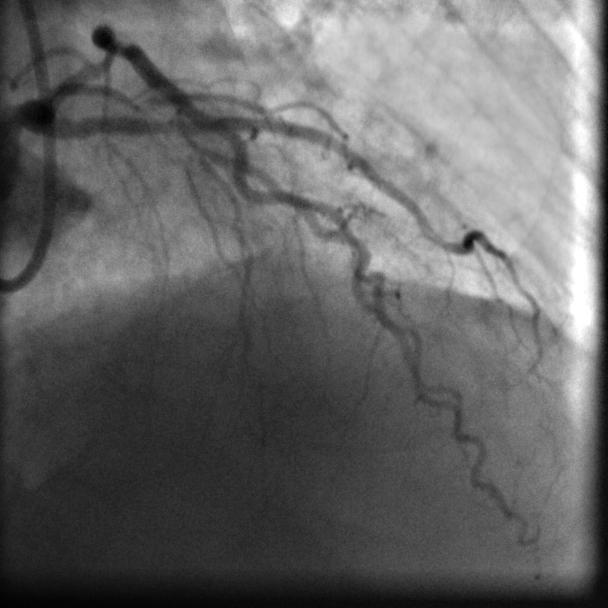Stenosis: (105, 24, 132, 70)
